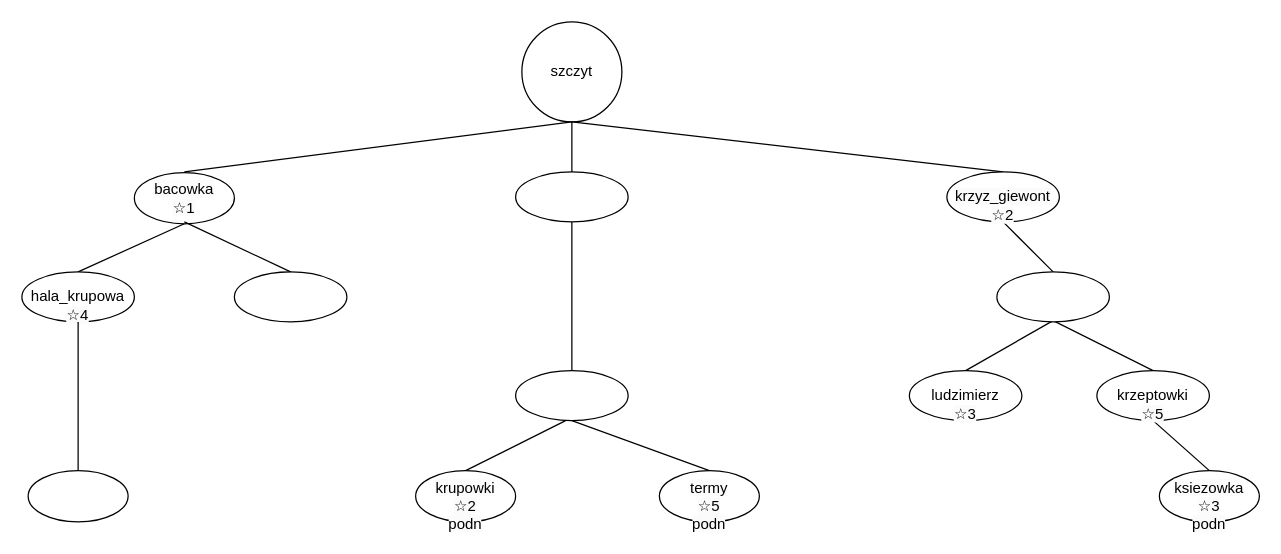
This 1281x554 diagram has some shape labels left out. Here are the shapes that lost their labels. From the top down, the centre of each, then its label:
point 571,196: kasprowy ☆4
point 290,296: morksie_oko ☆5
point 1052,296: jaszczurowka ☆3
point 571,395: wielka_krokiew ☆3
point 77,495: palace ☆3 podn
